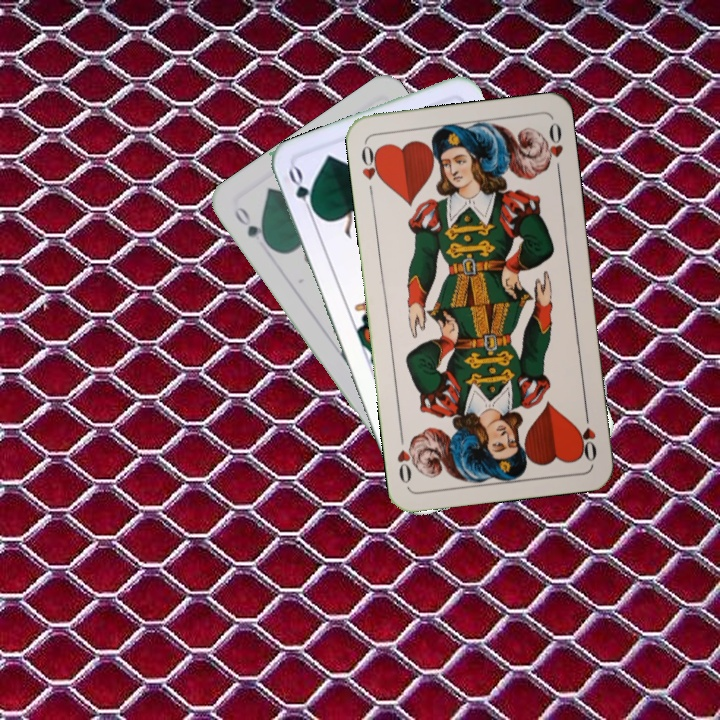GO: (284, 163, 321, 221), (230, 203, 274, 251)
HO: (357, 140, 385, 199), (575, 405, 600, 464)
